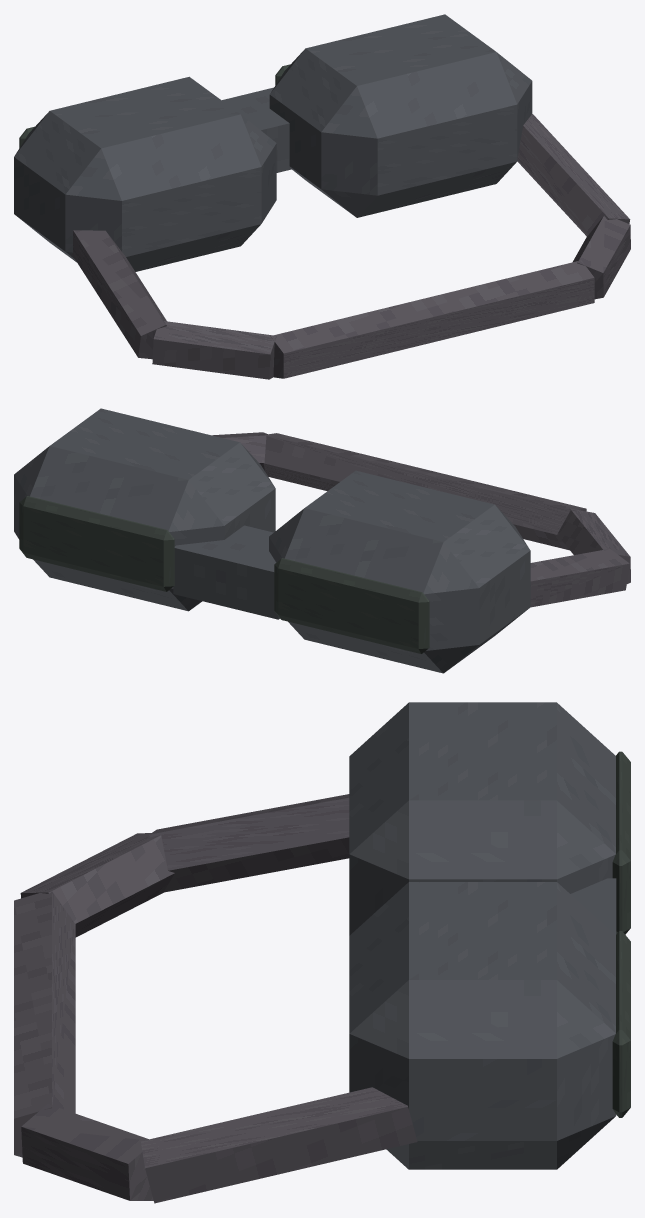
File: goggles_welding.glb
3 views of the same model, one above another, from view 1: azimuth 30°, elevation 25°; view 2: azimuth 150°, elevation 25°; view 3: azimuth 270°, elevation 25° (orthographic). The views are drawn at different scales.
Parts seen in each view (by area): view 1: block_eyepiece (×2), block_elastic back strap 2, block_elastic back strap 0, block_elastic back strap 1, block_elastic back strap 4, block_elastic back strap 3, block_bridge; view 2: block_eyepiece (×2), block_lens (×2), block_elastic back strap 2, block_bridge, block_elastic back strap 0, block_elastic back strap 1, block_elastic back strap 3; view 3: block_eyepiece (×2), block_elastic back strap 4, block_elastic back strap 2, block_elastic back strap 0, block_elastic back strap 3, block_elastic back strap 1, block_lens (×2), block_bridge.
Part boxes in pixels (x1,y1,x2,y2): block_eyepiece (×2): (14,14,532,271); block_elastic back strap 2: (270,260,594,378); block_elastic back strap 0: (72,230,166,359); block_elastic back strap 1: (152,321,276,379); block_elastic back strap 4: (517,114,630,236); block_elastic back strap 3: (573,216,630,299); block_bridge: (222,87,292,172); block_eyepiece (×2): (14,408,530,673); block_lens (×2): (19,496,429,653); block_elastic back strap 2: (263,433,586,550); block_bridge: (173,525,279,619); block_elastic back strap 0: (530,548,629,607); block_elastic back strap 1: (557,508,630,583); block_elastic back strap 3: (212,432,270,470); block_eyepiece (×2): (349,702,616,1169); block_elastic back strap 4: (141,1087,417,1203); block_elastic back strap 2: (14,889,75,1157); block_elastic back strap 0: (149,794,349,892); block_elastic back strap 3: (21,1104,153,1200); block_elastic back strap 1: (20,833,174,937); block_lens (×2): (612,751,630,1117); block_bridge: (570,878,616,934).
Bounding box in the file's own units: 0.114 × 0.0334 × 0.0873.
Materials: 1 (1 with a texture image).
